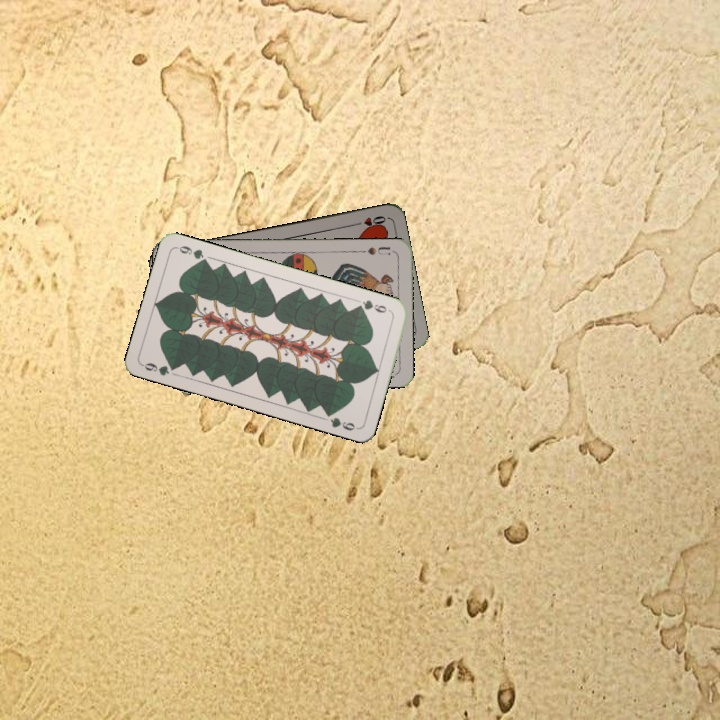G9: (353, 296, 394, 315), (139, 359, 180, 378)
HO: (349, 211, 388, 231)
SU: (356, 242, 393, 258)
